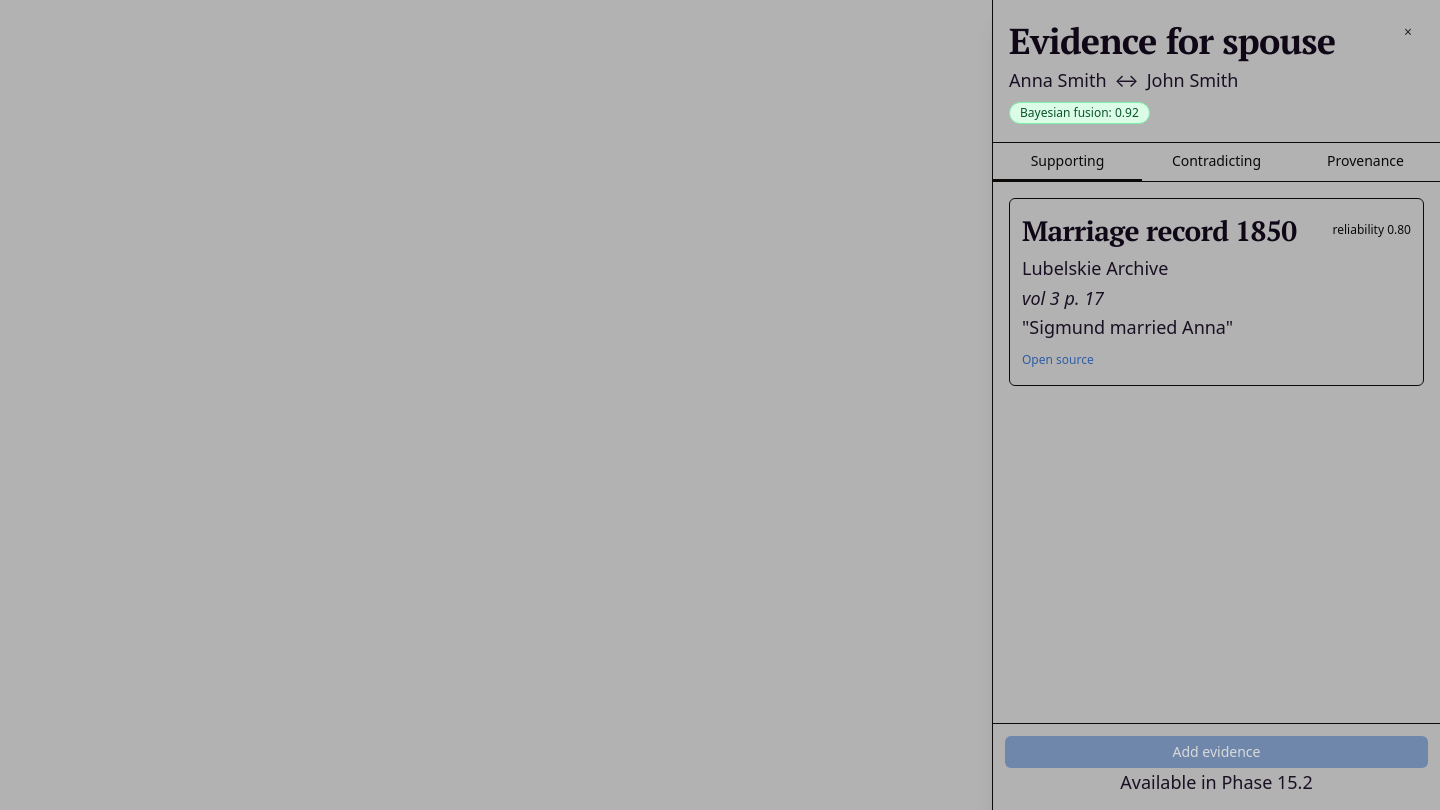
RelationshipEvidencePanel › switches to contradicting tab on click
Check: the list item with test id "supporting-source-0" is shown, box [1009,198,1424,386]
Click the tab with test id "evidence-tab-contradicting" at (1216, 162), box [1142,143,1291,181]
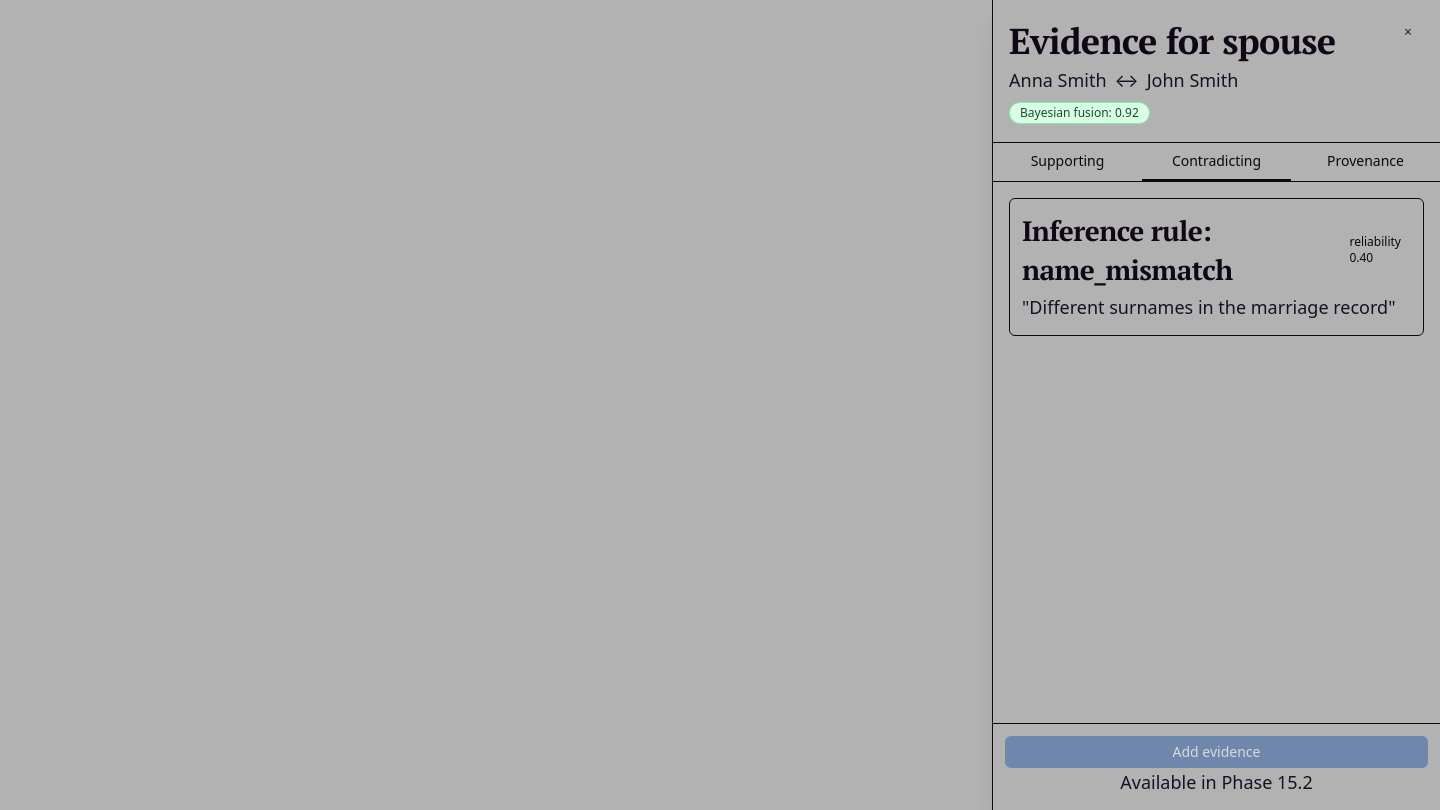
Check: the list item with test id "contradicting-source-0" is shown, box [1009,198,1424,336]
Check: the heading "Inference rule: name_mismatch" is shown, box [1022,212,1233,288]
